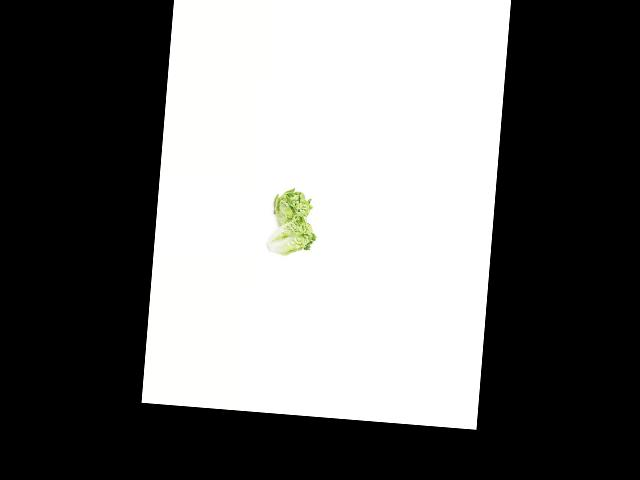lettuce: (266, 186, 314, 232)
